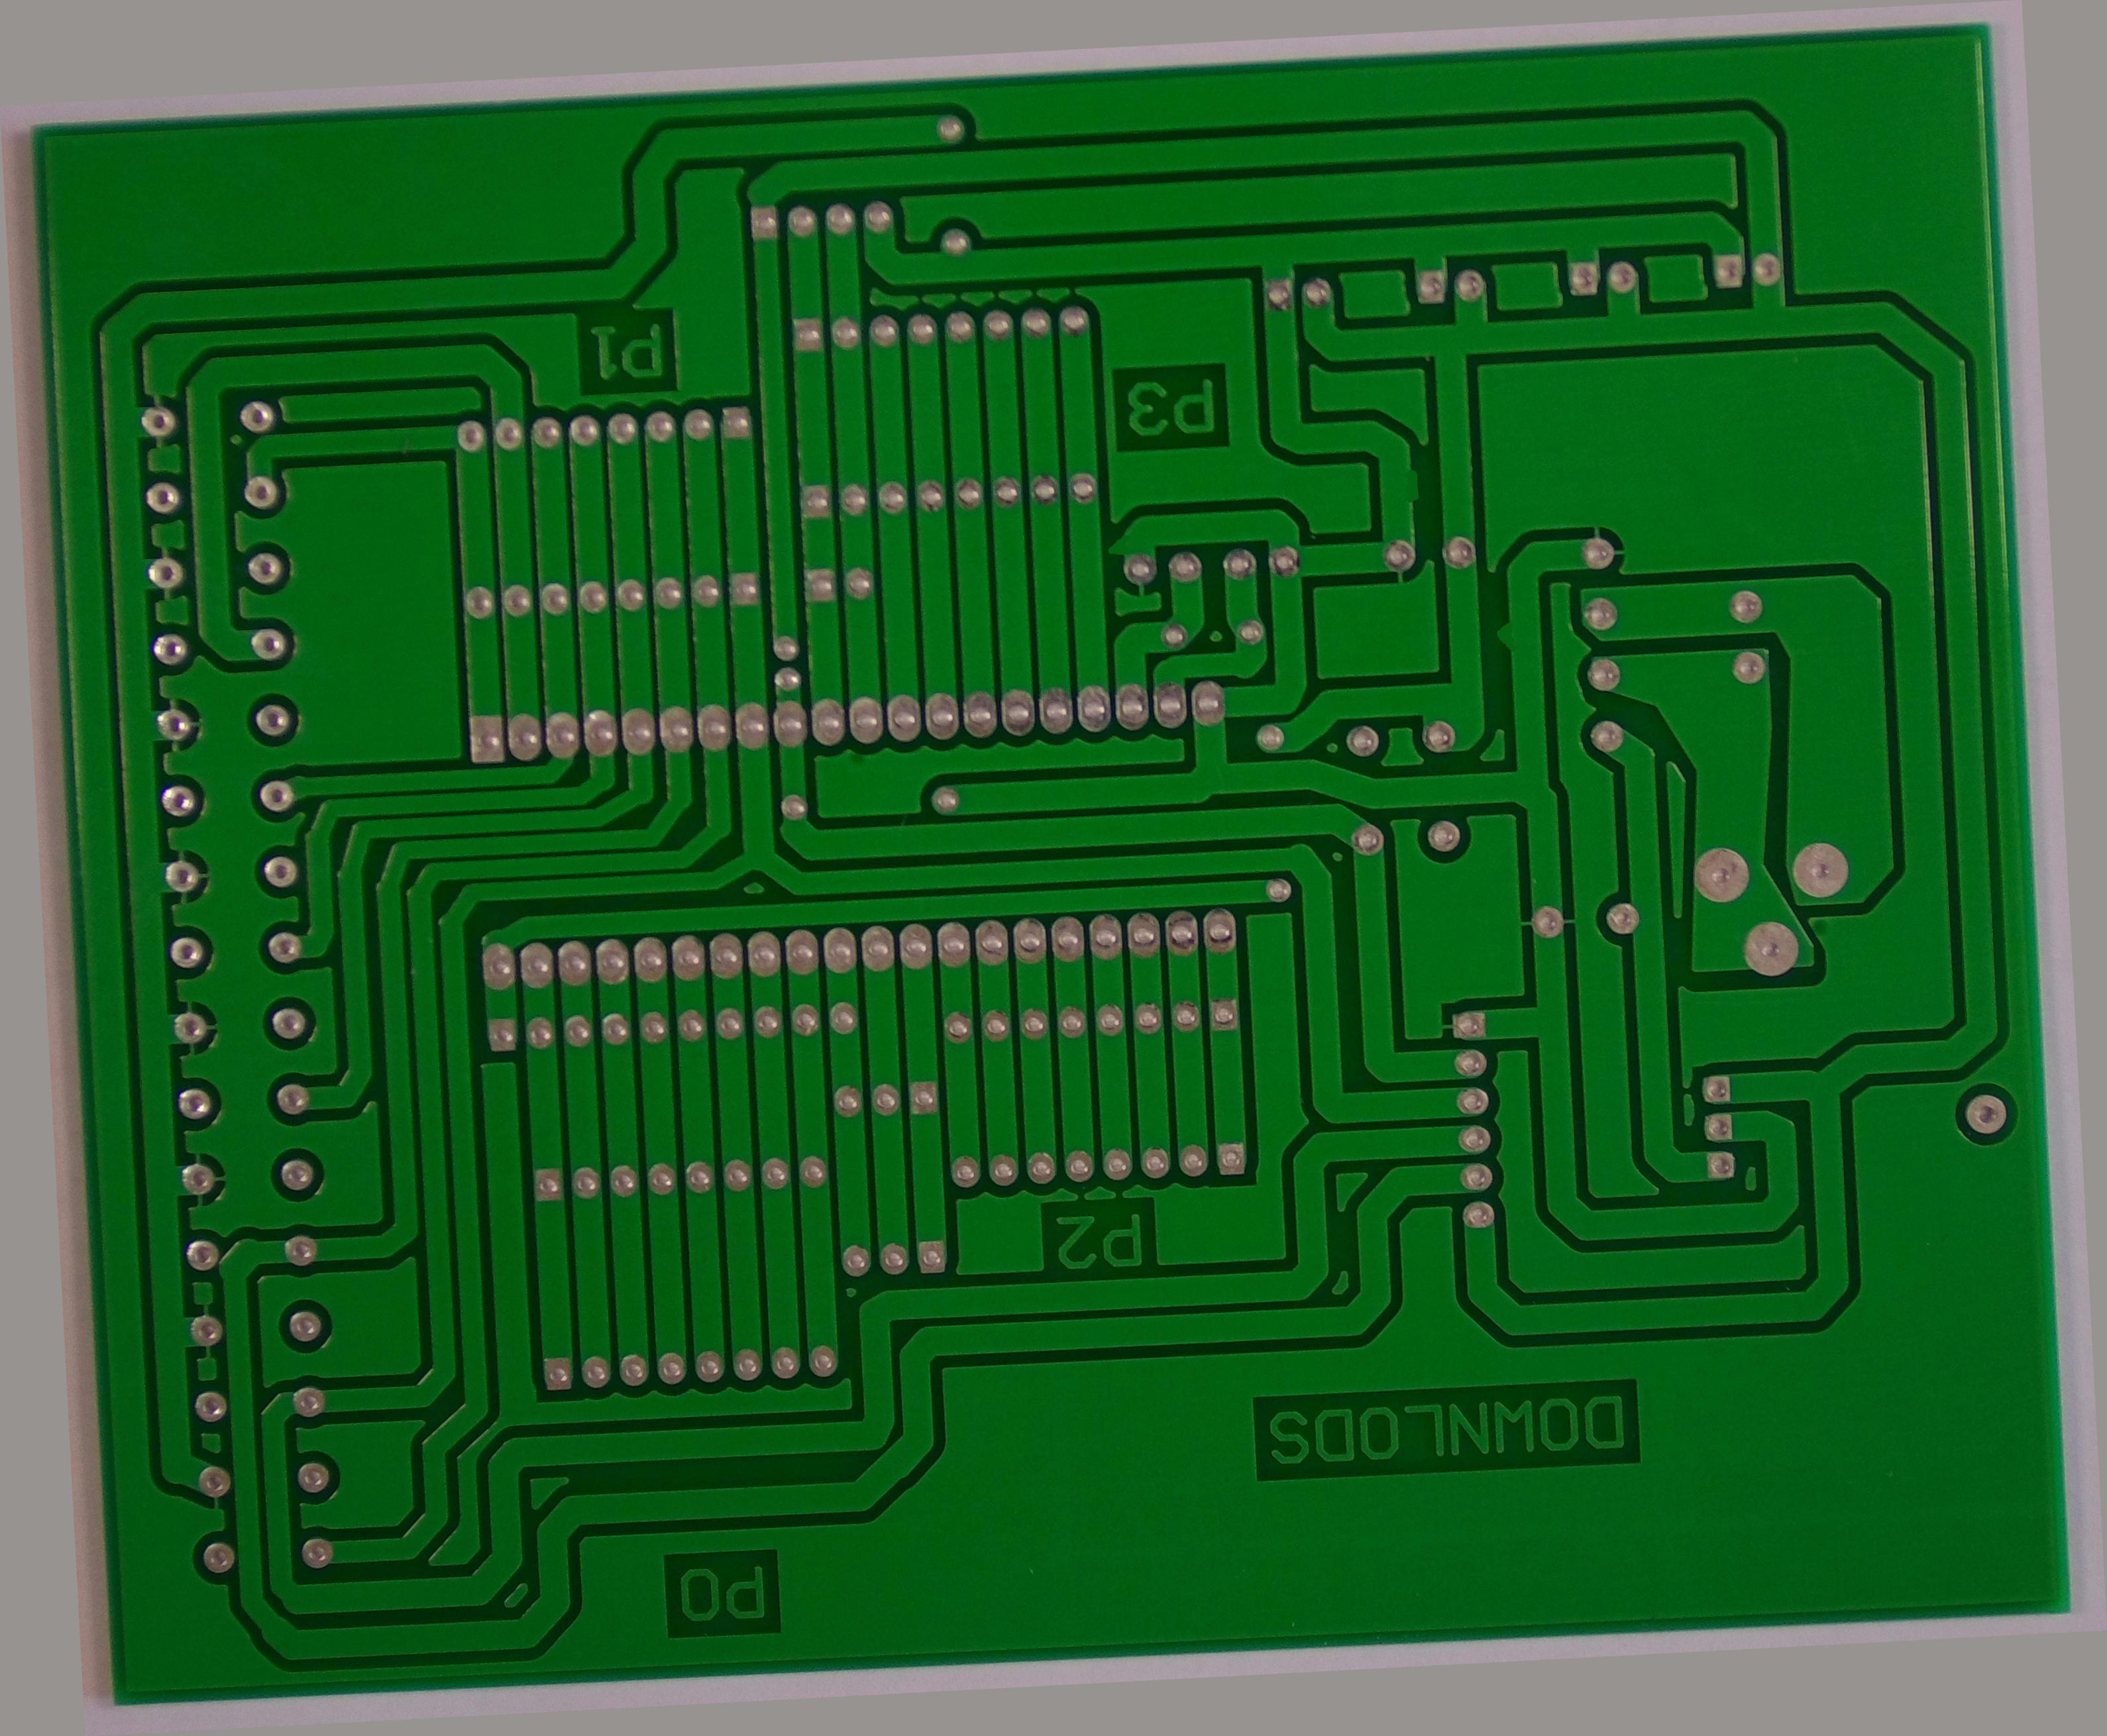spur: (1487, 609, 1529, 658), (1395, 453, 1428, 513), (1106, 525, 1134, 564)
